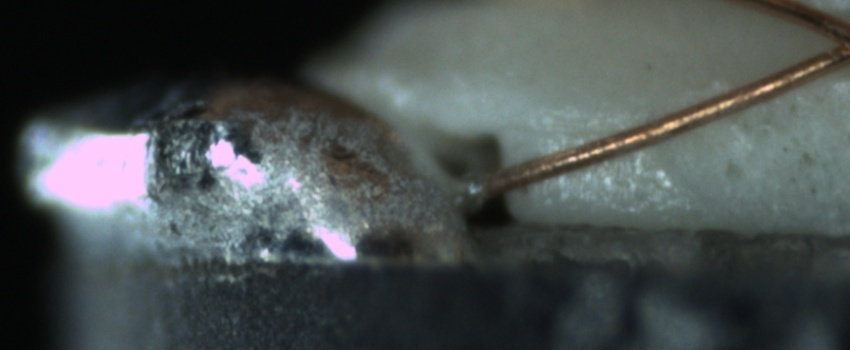CL: (802, 12, 850, 75)
DL: (527, 104, 637, 156)
